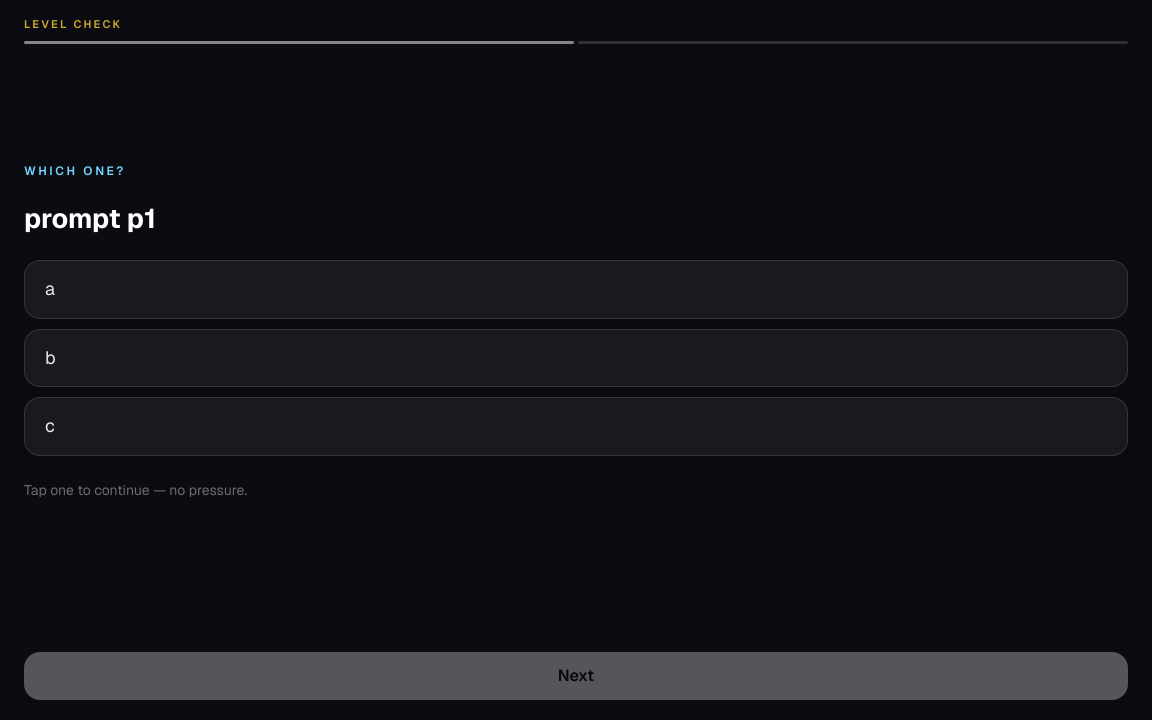
Scenario: CheckPlayer scoring (Fix 2) › shows an 'Extra' badge on stretch items only
Click the button "a" at (50, 288), box [24,260,1128,319]
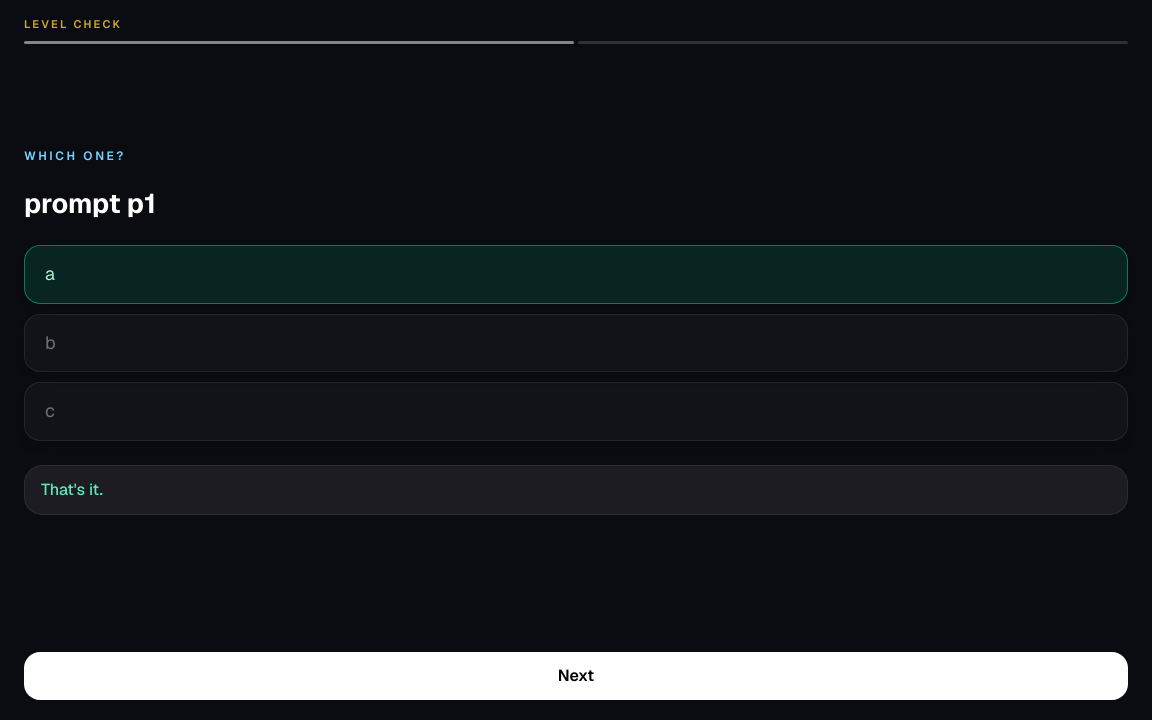
Click the button with test id "check-next" at (576, 676), box [24,652,1128,700]
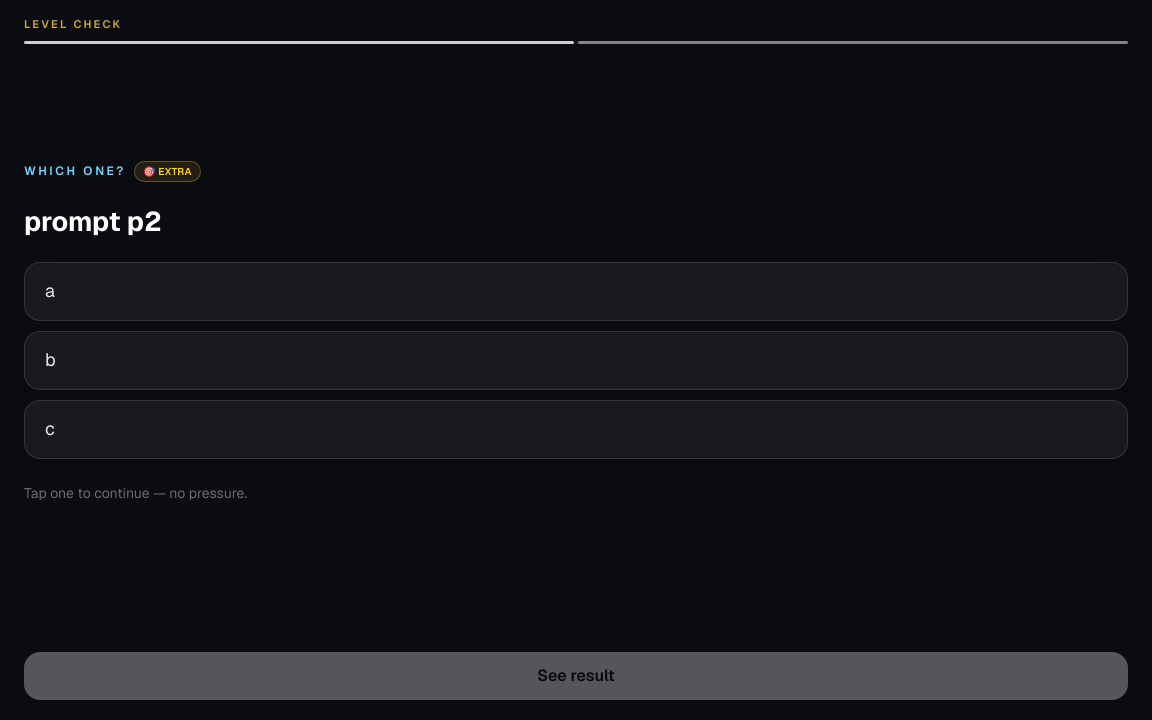
Now the text with test id "mcq-badge" reads "🎯 Extra", box [143,165,192,178]
